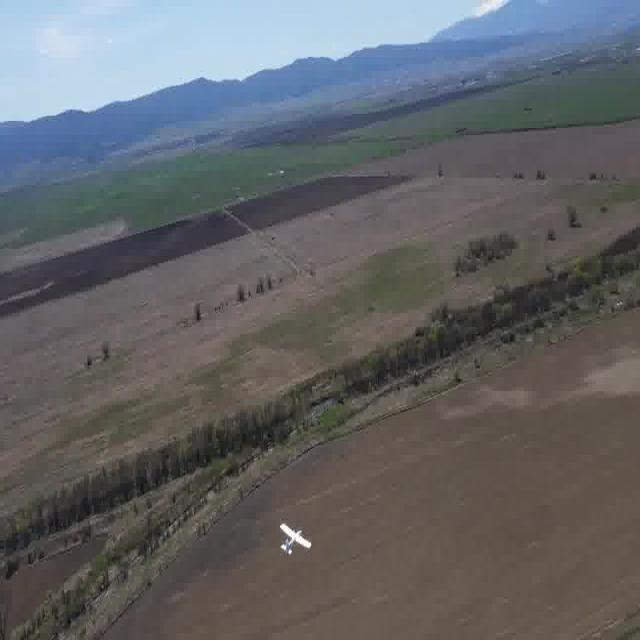iha: (277, 512, 316, 566)
